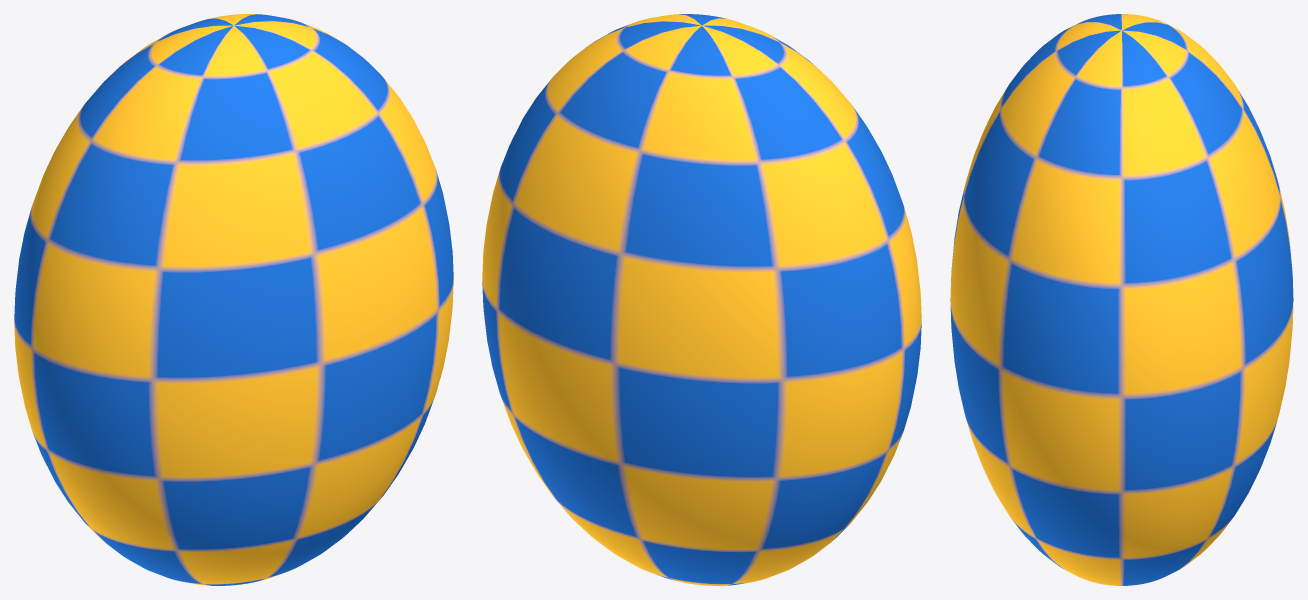
The model's file is runtime.glb.
3 renders of one model, left to right at view 1: azimuth 30°, elevation 25°; view 2: azimuth 150°, elevation 25°; view 3: azimuth 270°, elevation 25°, orthographic.
Visible parts, largest first — view 1: Synthetic_transfer_fixture; view 2: Synthetic_transfer_fixture; view 3: Synthetic_transfer_fixture.
Boxes of the visible parts, left/top/right/bottom form: Synthetic_transfer_fixture: left=14, top=14, right=453, bottom=585; Synthetic_transfer_fixture: left=482, top=14, right=921, bottom=585; Synthetic_transfer_fixture: left=950, top=14, right=1293, bottom=585.
Bounding box in the file's own units: 2 × 2.6 × 1.5.
Materials: 1 (1 with a texture image).
